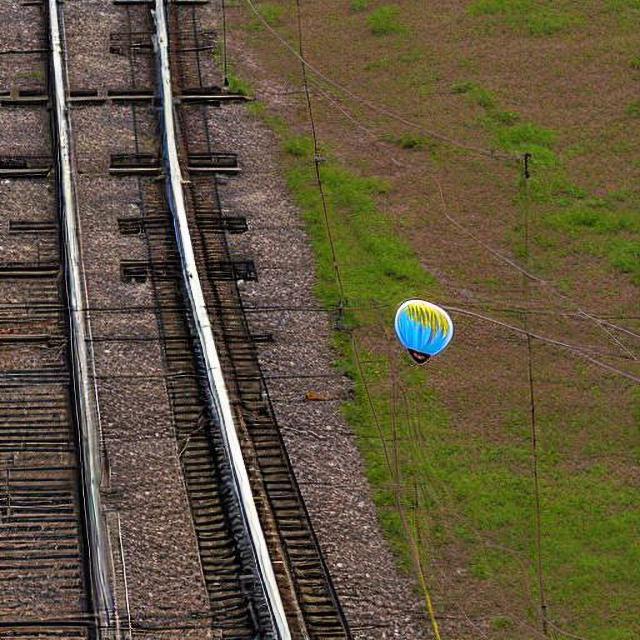balloon: (391, 296, 452, 362)
